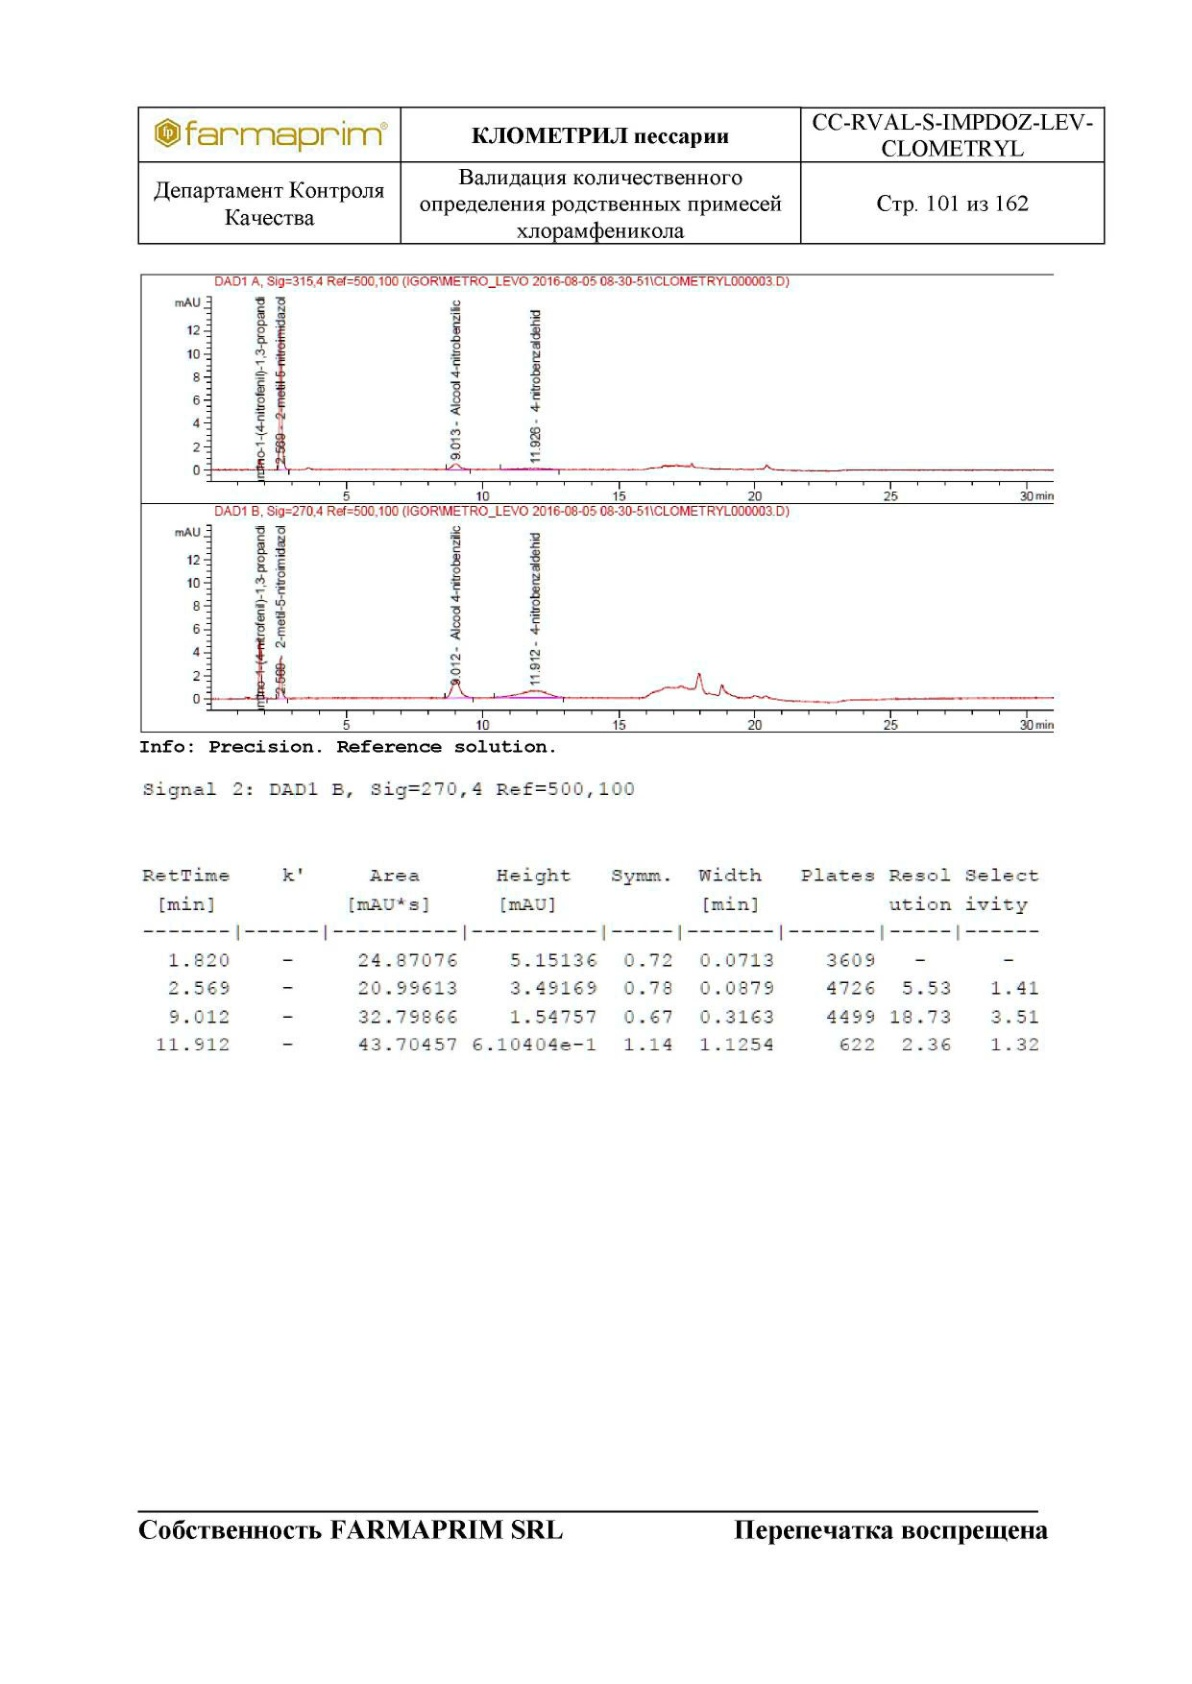full_lined: (137, 104, 1108, 246)
partial_lined: (139, 864, 1044, 1055)
